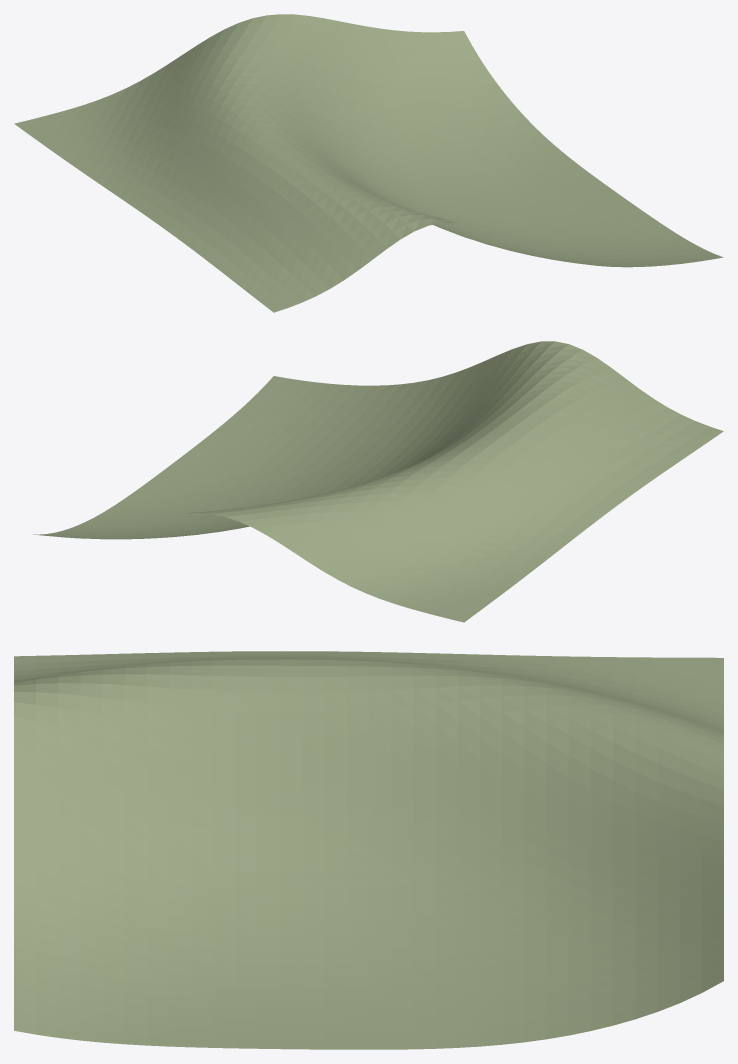
The model's file is lunar-0-4.glb.
The picture shows the model from 3 angles, top to bottom: view 1: azimuth 30°, elevation 25°; view 2: azimuth 150°, elevation 25°; view 3: azimuth 270°, elevation 25°; orthographic projection. The views are drawn at different scales.
Visible parts, largest first — view 1: lunar-0-4; view 2: lunar-0-4; view 3: lunar-0-4.
Part boxes in pixels (x1,y1,x2,y2): lunar-0-4: [14, 14, 723, 312]; lunar-0-4: [33, 341, 723, 622]; lunar-0-4: [14, 651, 723, 1049].
Size of the model in its own units: 128 by 32 by 128.
